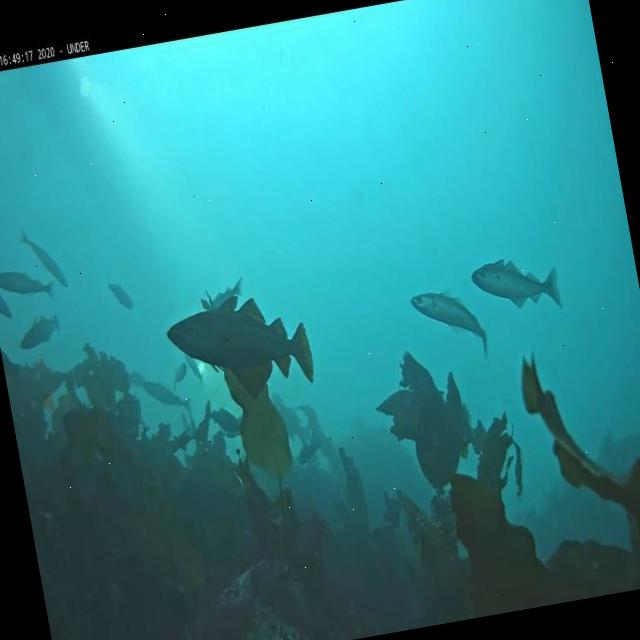fish: (161, 281, 318, 413), (470, 246, 563, 320), (411, 283, 492, 366), (18, 222, 68, 294), (0, 260, 57, 309), (140, 370, 194, 420), (14, 311, 64, 352), (206, 404, 241, 438), (105, 274, 134, 312), (182, 344, 205, 389), (294, 434, 328, 464), (0, 279, 15, 323), (169, 360, 188, 388)
